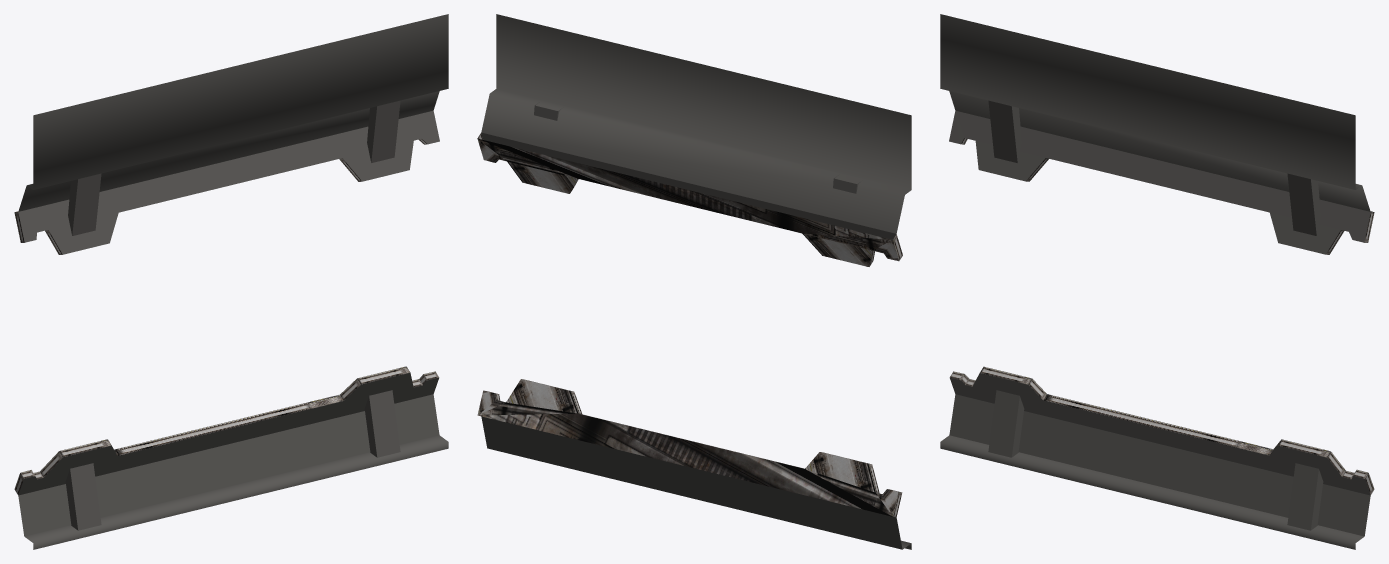
File: theta_ground_noplate.dae
3 renders of one model, left to right at view 1: azimuth 30°, elevation 25°; view 2: azimuth 150°, elevation 25°; view 3: azimuth 330°, elevation 25°, orthographic.
Parts seen in each view (by area): view 1: polySurface36; view 2: polySurface36; view 3: polySurface36.
Boxes of the visible parts, <box> form: polySurface36: <box>14,14,448,549</box>; polySurface36: <box>477,14,911,549</box>; polySurface36: <box>940,14,1374,549</box>.
Size of the model in its own units: 4 by 4 by 0.3149.
